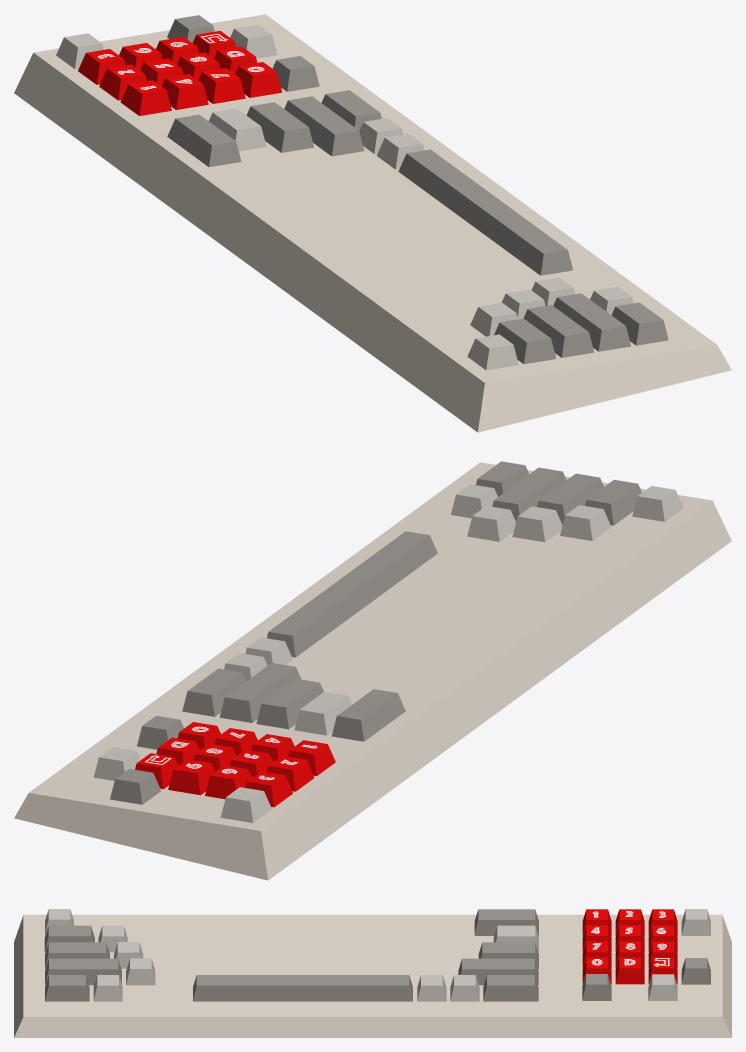
Rendered from fixedkeyboard.glb.
3 renders of one model, top to bottom at view 1: azimuth 30°, elevation 25°; view 2: azimuth 150°, elevation 25°; view 3: azimuth 270°, elevation 25°, orthographic. The views are drawn at different scales.
Visible parts, largest first — view 1: toprowkeys.008, numpad, space, key.004, key.003, key.008, key.002, key.007, key.006, key.005, key.001, toprowkeys.003 (+11 smaller); view 2: toprowkeys.008, numpad, space, key.003, key.004, key.002, toprowkeys.007, key.008, key.001, key.007, key.006, toprowkeys (+11 smaller); view 3: toprowkeys.008, numpad, space, toprowkeys.007, key.004, key.008, key.003, key.005, key.007, key.002, key.006, key.001 (+11 smaller).
Part boxes in pixels (left/top/right/bottom): toprowkeys.008: left=14, top=14, right=731, bottom=432; numpad: left=78, top=30, right=282, bottom=115; space: left=398, top=149, right=572, bottom=275; key.004: left=284, top=96, right=364, bottom=156; key.003: left=167, top=114, right=241, bottom=167; key.008: left=553, top=293, right=631, bottom=351; key.002: left=246, top=102, right=313, bottom=152; key.007: left=523, top=305, right=594, bottom=357; key.006: left=494, top=318, right=556, bottom=364; key.005: left=611, top=302, right=668, bottom=345; key.001: left=209, top=108, right=266, bottom=151; toprowkeys.003: left=467, top=334, right=518, bottom=370; toprowkeys.008: left=14, top=462, right=731, bottom=880; numpad: left=135, top=722, right=335, bottom=807; space: left=267, top=531, right=437, bottom=657; key.003: left=331, top=689, right=405, bottom=741; key.004: left=219, top=663, right=301, bottom=722; key.002: left=256, top=678, right=323, bottom=729; toprowkeys.007: left=182, top=668, right=246, bottom=716; key.008: left=492, top=467, right=566, bottom=521; key.001: left=294, top=692, right=351, bottom=735; key.007: left=537, top=473, right=603, bottom=524; key.006: left=585, top=479, right=641, bottom=525; toprowkeys: left=560, top=505, right=611, bottom=540; toprowkeys.008: left=14, top=914, right=731, bottom=1037; numpad: left=582, top=909, right=677, bottom=984; space: left=193, top=975, right=412, bottom=1001; toprowkeys.007: left=483, top=975, right=538, bottom=1001; key.004: left=458, top=958, right=538, bottom=985; key.008: left=45, top=958, right=121, bottom=985; key.003: left=474, top=909, right=538, bottom=935; key.005: left=45, top=975, right=89, bottom=1001; key.007: left=45, top=942, right=109, bottom=968; key.002: left=478, top=942, right=538, bottom=968; key.006: left=44, top=925, right=94, bottom=952; key.001: left=493, top=925, right=538, bottom=952.
Size of the model in its own units: 1.43 by 0.3203 by 4.54.
4 materials, 1 textured.
